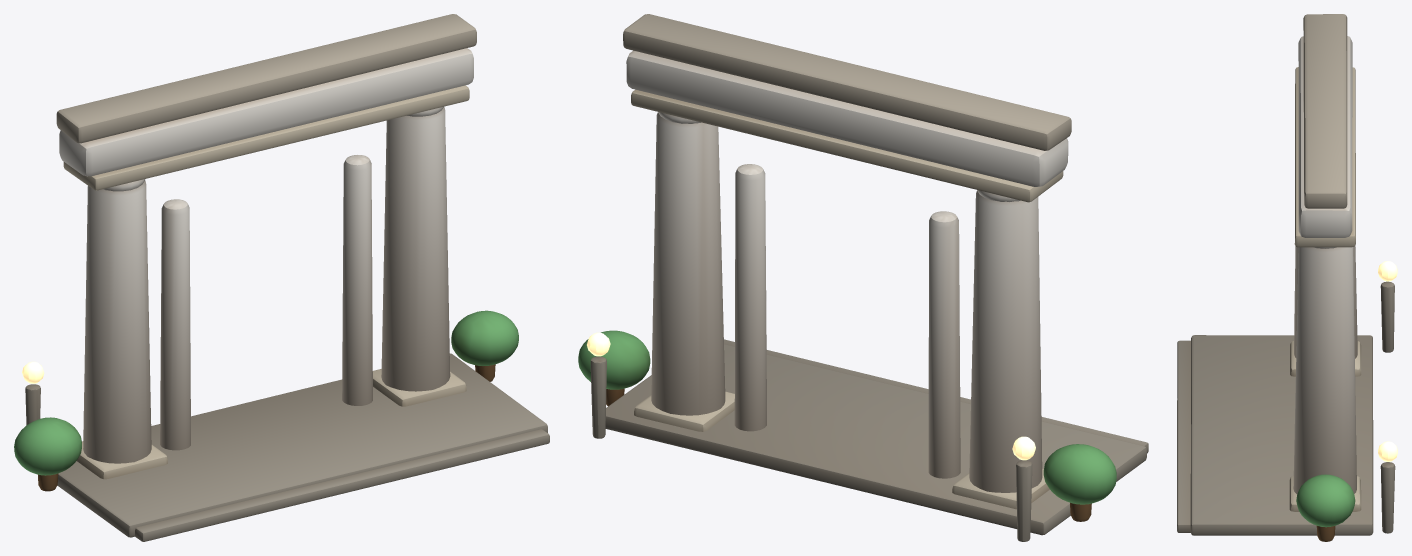
The picture shows the model from 3 angles, left to right: view 1: azimuth 30°, elevation 25°; view 2: azimuth 150°, elevation 25°; view 3: azimuth 270°, elevation 25°; orthographic projection. The views are drawn at different scales.
Parts seen in each view (by area): view 1: gate_a6014ecb; view 2: gate_a6014ecb; view 3: gate_a6014ecb.
Boxes of the visible parts, x1=… form: gate_a6014ecb: x1=14, y1=14, x2=549, y2=541; gate_a6014ecb: x1=578, y1=14, x2=1148, y2=541; gate_a6014ecb: x1=1177, y1=14, x2=1397, y2=541.
Size of the model in its own units: 6.14 by 4.32 by 2.55.
